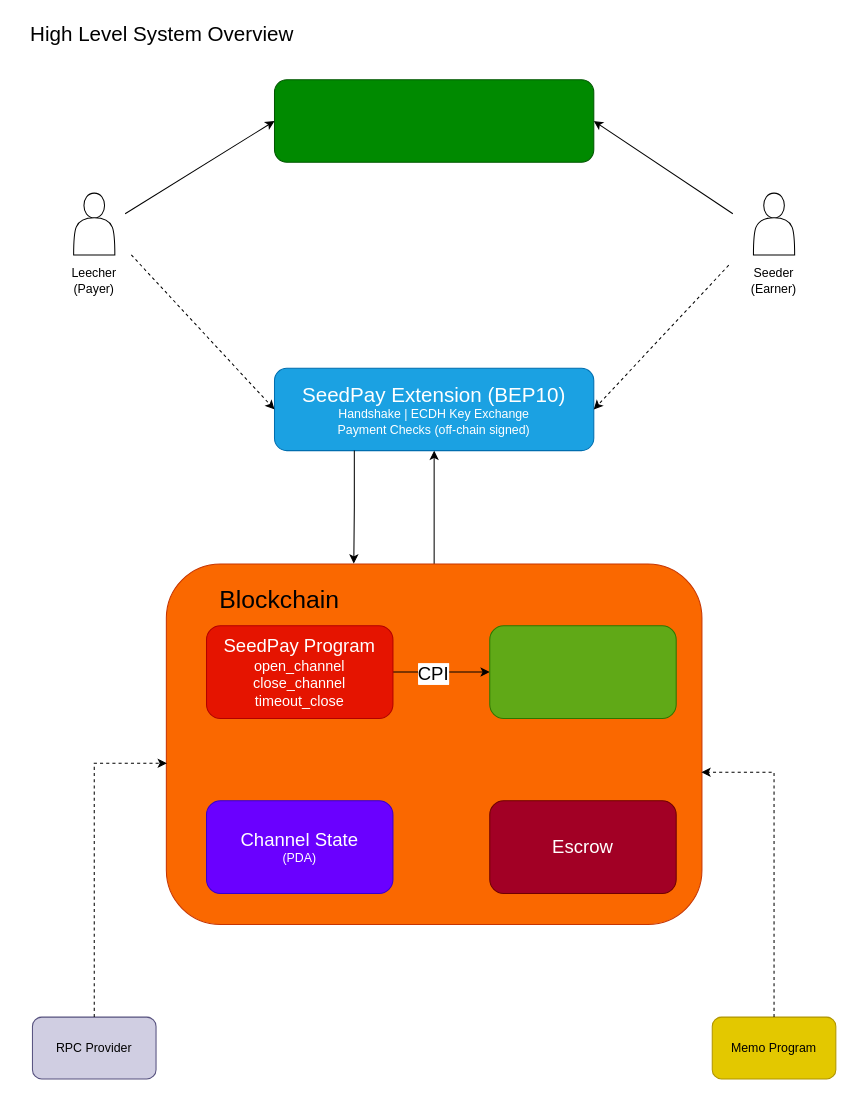
The diagram is 854 pixels wide and 1097 high, and some of its shapes have lost their labels. Each missing label, with the centre of its shape:
"BitTorrent Network Peer Wire Protocol + BEP10" belongs at point 433,120.
"SPL Token Program" belongs at point 582,671.
